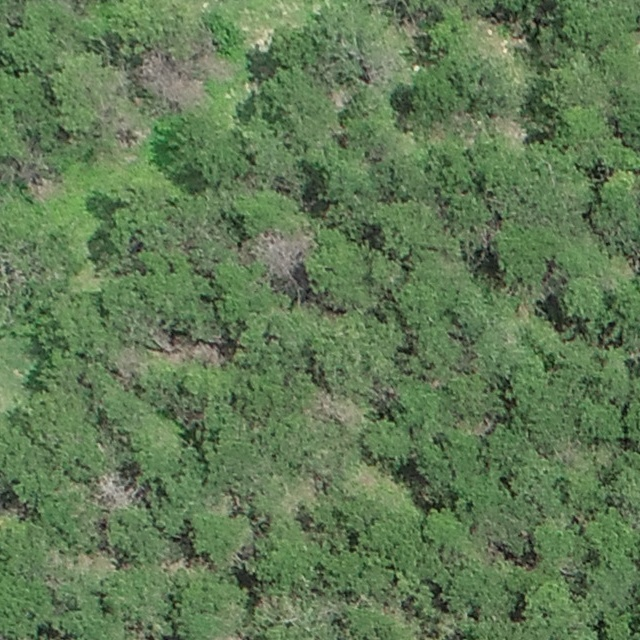unhealthy: (242, 228, 318, 283), (135, 48, 201, 107), (91, 472, 140, 512), (18, 159, 58, 200), (194, 46, 237, 82)
